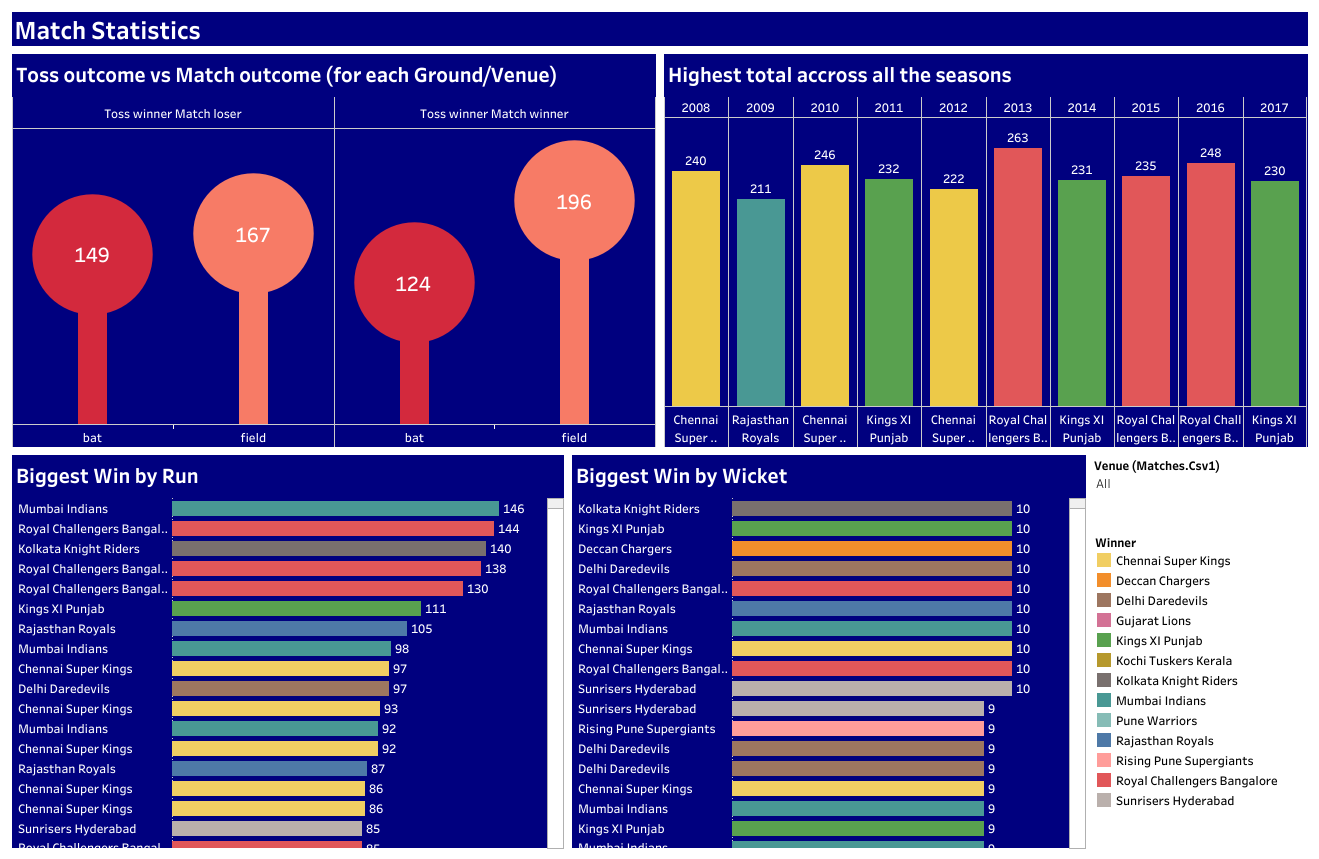

Layout of this report page (visuals, bound fields, positions):
{"tool":"tableau","page":{"name":"Match Statistics","canvas":[1320,860],"ordinal":0},"visuals":[{"type":"title","box":[8,8,1304,41]},{"type":"worksheet","title":"Toss outcome vs Match outcome (for each Ground/Venue)","mark":"Shape","rows":["id","id"],"cols":["Calculation_840484330999521283","toss_decision (matches.csv1)"],"box":[8,49,652,401.5]},{"type":"worksheet","title":"Highest total accross all the seasons","mark":"Automatic","rows":["total_runs"],"cols":["Calculation_731834989258354689","Calculation_1246371247299792896","batting_team"],"box":[660,49,652,401.5]},{"type":"worksheet","title":"Biggest Win by Run","mark":"Automatic","rows":["id","winner"],"cols":["win_by_runs"],"box":[8,450.5,559.8,401.5]},{"type":"worksheet","title":"Biggest Win by Wicket","mark":"Bar","rows":["id","winner"],"cols":["win_by_wickets (matches.csv1)"],"box":[567.8,450.5,522.1,401.5]},{"type":"filter","title":"Toss outcome vs Match outcome (for each Ground/Venue)","param":"[federated.0xpvl9k142aeco1g1o5wq037uevb].[none:venue (matches.csv1):nk]","box":[1089.9,450.5,222.1,75.7]},{"type":"legend","title":"Biggest Win by Run","param":"[federated.0xpvl9k142aeco1g1o5wq037uevb].[none:winner:nk]","box":[1089.9,526.2,222.1,325.8]}]}

Visuals, with their boxes in screenshot pixels (x1, y1, x2, y2), scaled from the page's 1320x860 canvas onto the 1319x859 screenshot:
title: [8, 8, 1311, 49]
"Toss outcome vs Match outcome (for each Ground/Venue)" worksheet (Shape marks): [8, 49, 660, 450]
"Highest total accross all the seasons" worksheet: [660, 49, 1311, 450]
"Biggest Win by Run" worksheet: [8, 450, 567, 851]
"Biggest Win by Wicket" worksheet (Bar marks): [567, 450, 1089, 851]
"Toss outcome vs Match outcome (for each Ground/Venue)" filter: [1089, 450, 1311, 526]
"Biggest Win by Run" legend: [1089, 526, 1311, 851]
